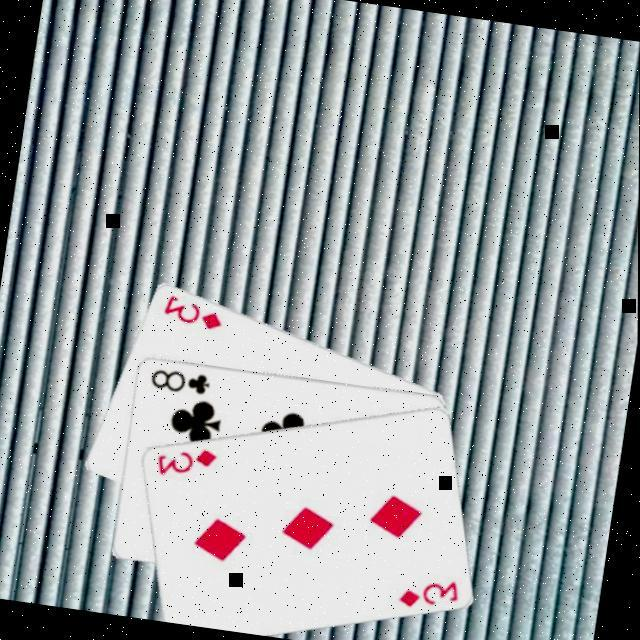3D: (392, 568, 462, 616), (150, 438, 220, 484), (156, 289, 226, 333)
8C: (146, 362, 212, 398)
